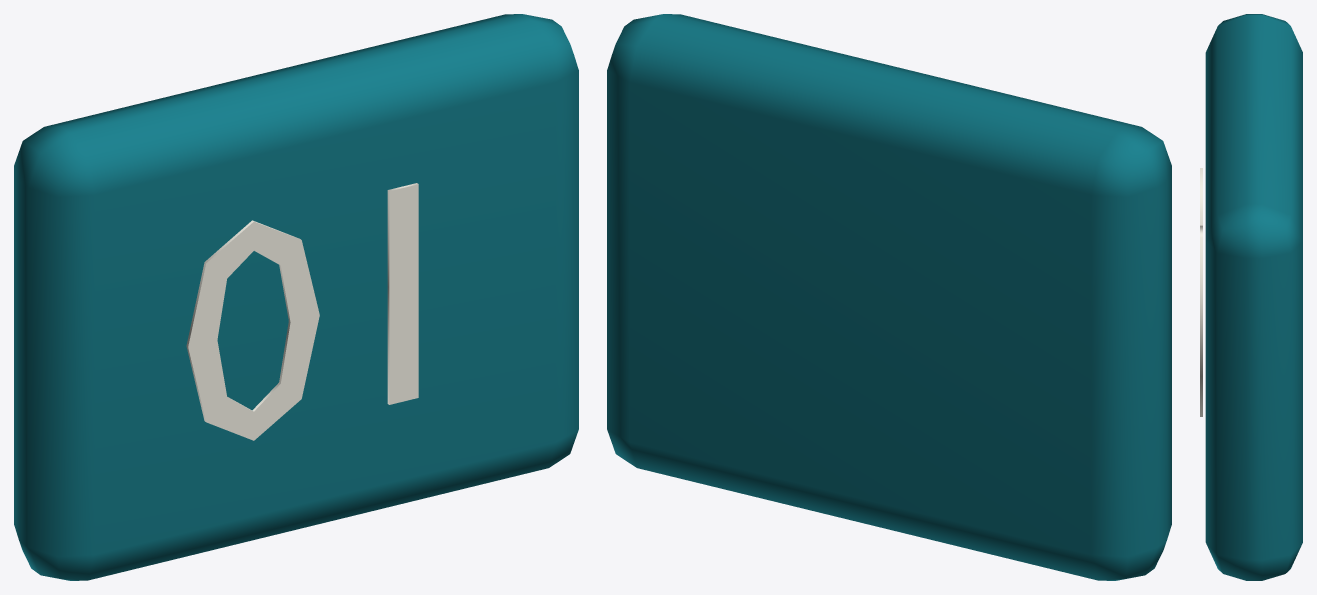
The model's file is Recovery_Bay_Sign_01.glb.
The picture shows the model from 3 angles, left to right: view 1: azimuth 30°, elevation 25°; view 2: azimuth 150°, elevation 25°; view 3: azimuth 270°, elevation 25°; orthographic projection. The views are drawn at different scales.
Parts seen in each view (by area): view 1: Recovery_Bay_Sign_01__Visual; view 2: Recovery_Bay_Sign_01__Visual; view 3: Recovery_Bay_Sign_01__Visual.
Part boxes in pixels (box(x1,y1,x2,y2)): Recovery_Bay_Sign_01__Visual: box(14, 14, 578, 580); Recovery_Bay_Sign_01__Visual: box(607, 14, 1171, 580); Recovery_Bay_Sign_01__Visual: box(1200, 14, 1302, 580).
Size of the model in its own units: 0.37 by 0.29 by 0.072.
Materials: 1 (1 with a texture image).
